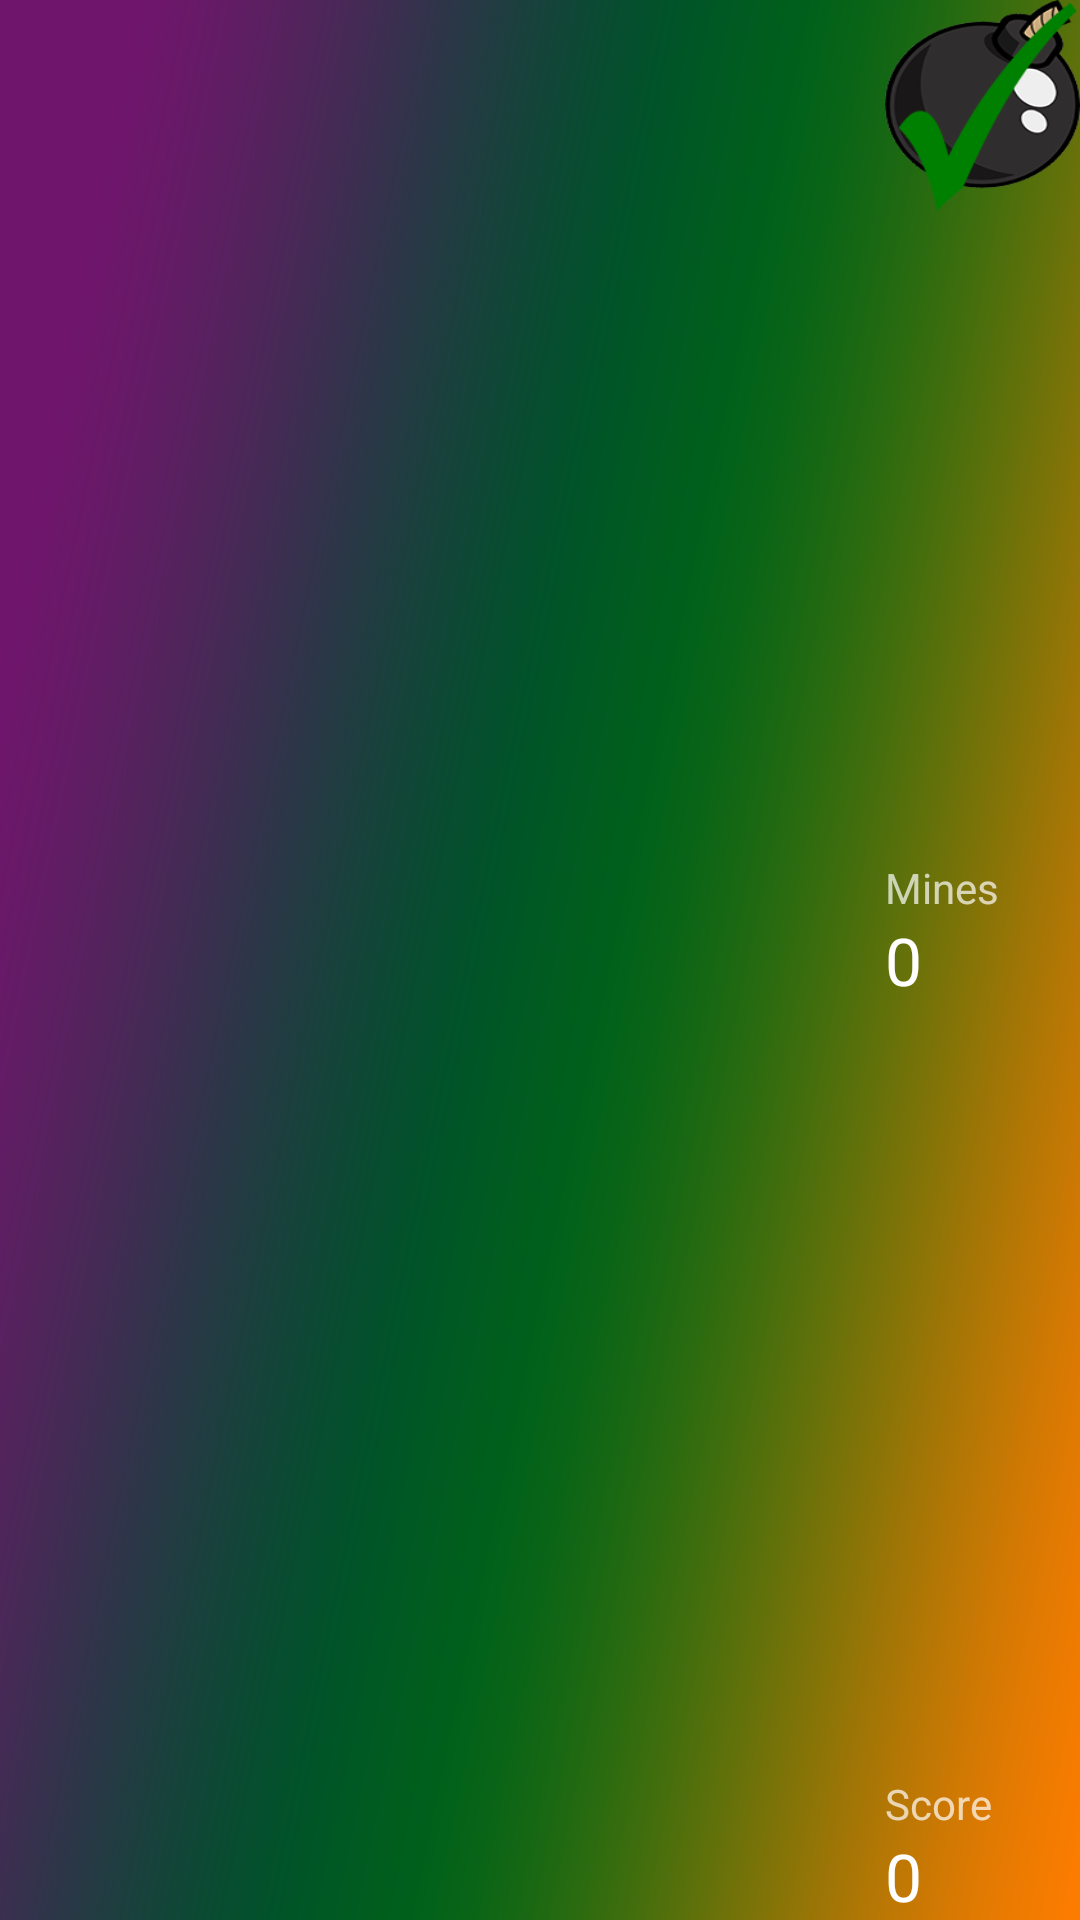

Point at icon controls on the screen. Image size 1080x1920, points as (x=x, y=y).
bomb check: (x=982, y=105)
